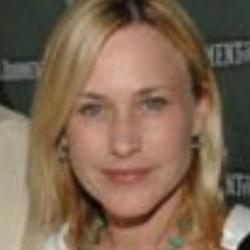face: (19, 3, 228, 220)
